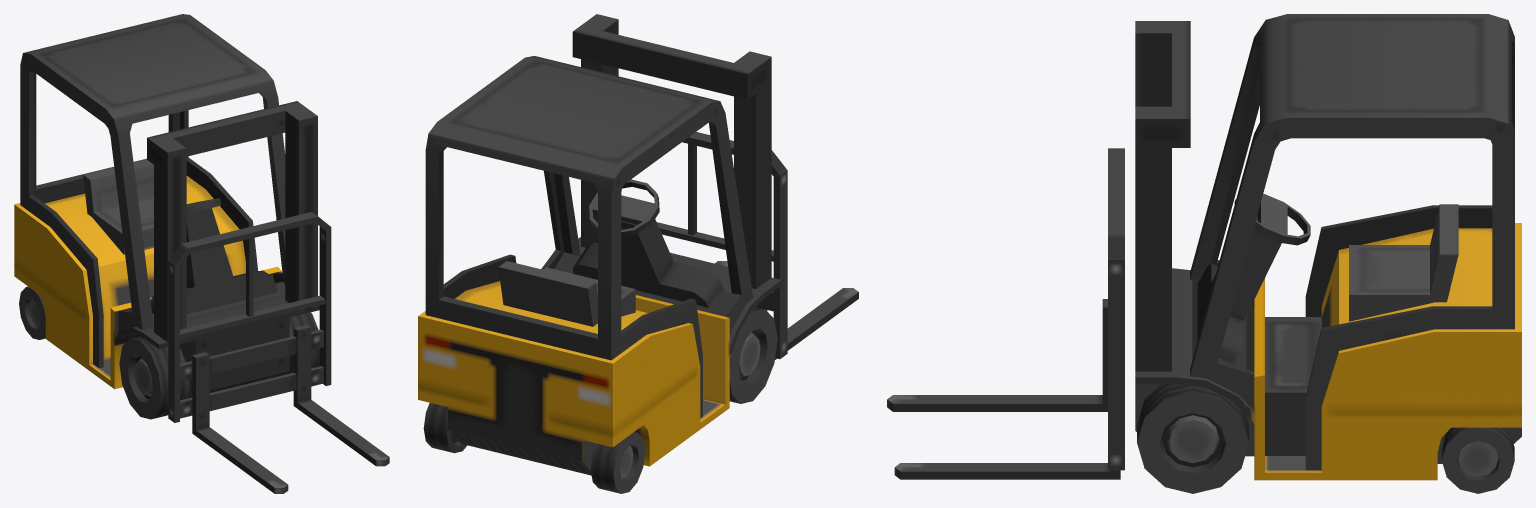
The model's file is Fork_Lift_001.FBX.
3 views of the same model, side by side, from view 1: azimuth 30°, elevation 25°; view 2: azimuth 150°, elevation 25°; view 3: azimuth 270°, elevation 25° (orthographic). The views are drawn at different scales.
Parts seen in each view (by area): view 1: Fork_Lift_001, Fork_Lift_001_Forward_Wheel, Fork_Lift_001_Right_Wheel; view 2: Fork_Lift_001, Fork_Lift_001_Forward_Wheel, Fork_Lift_001_Right_Wheel, Fork_Lift_001_Left_Wheel; view 3: Fork_Lift_001, Fork_Lift_001_Forward_Wheel, Fork_Lift_001_Left_Wheel.
Boxes of the visible parts, <box> form: Fork_Lift_001: <box>14,14,389,493</box>; Fork_Lift_001_Forward_Wheel: <box>119,312,319,419</box>; Fork_Lift_001_Right_Wheel: <box>19,286,45,339</box>; Fork_Lift_001: <box>418,14,858,475</box>; Fork_Lift_001_Forward_Wheel: <box>729,307,777,403</box>; Fork_Lift_001_Right_Wheel: <box>590,431,645,493</box>; Fork_Lift_001_Left_Wheel: <box>423,403,466,453</box>; Fork_Lift_001: <box>887,14,1521,480</box>; Fork_Lift_001_Forward_Wheel: <box>1137,383,1248,493</box>; Fork_Lift_001_Left_Wheel: <box>1442,427,1514,493</box>.
Size of the model in its own units: 100 by 246 by 161.
